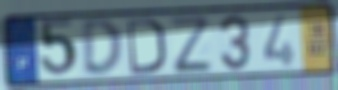3: (217, 13, 252, 73)
4: (261, 12, 297, 68)
5: (37, 18, 80, 82)
D: (80, 17, 126, 79), (125, 17, 168, 77)
Z: (166, 15, 214, 75)
